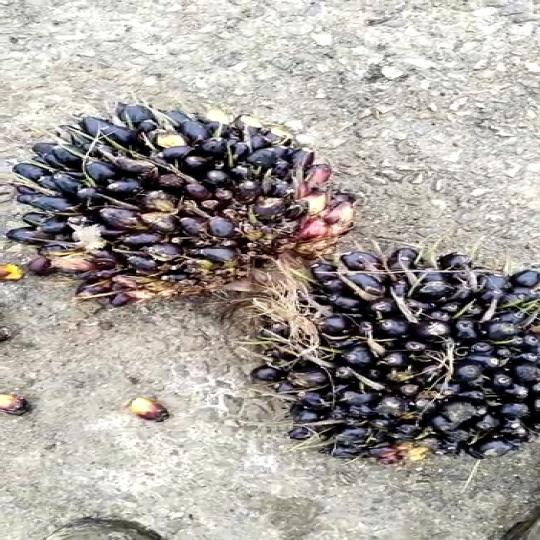mentah: (0, 99, 387, 314), (254, 246, 540, 480)
